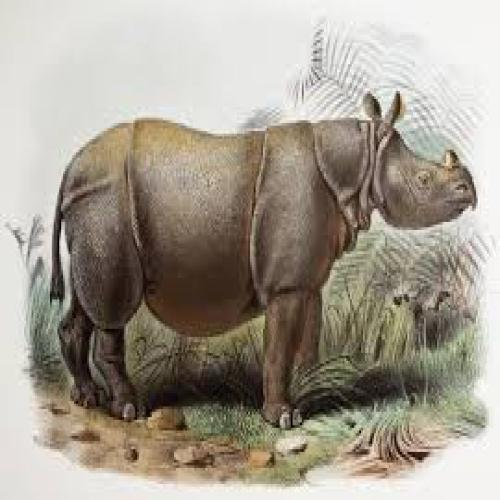rhino-endangered: (48, 88, 481, 428)
